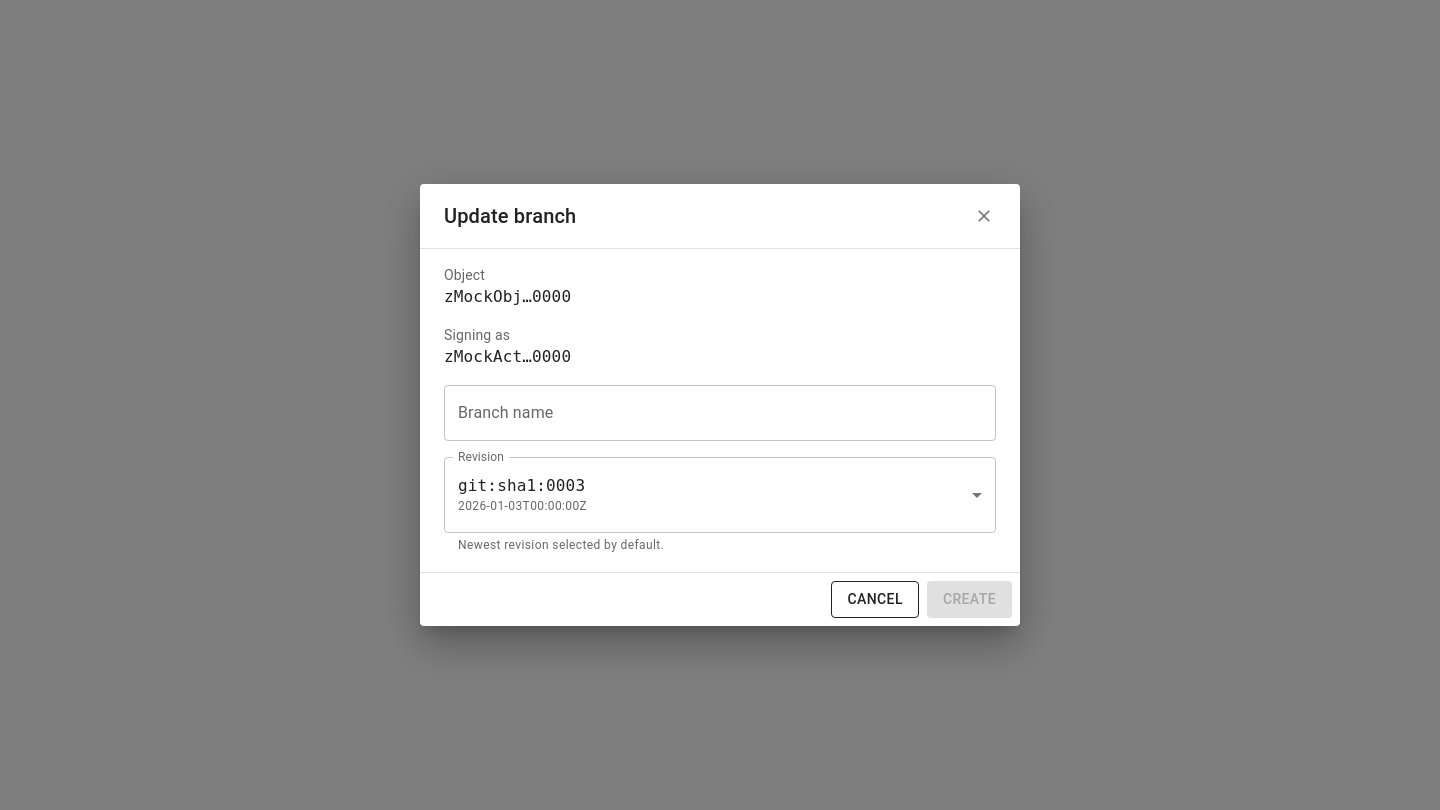
Test: <BranchUpdateDialog /> › disables submit until a name is supplied
This screenshot has width=1440, height=810.
Expected: the button with test id "branch-update-submit" is disabled, [927,581,1012,618]
Step 1. Type "head" into the dropdown with test id "branch-name-input" → (705, 413), box [453,394,957,432]
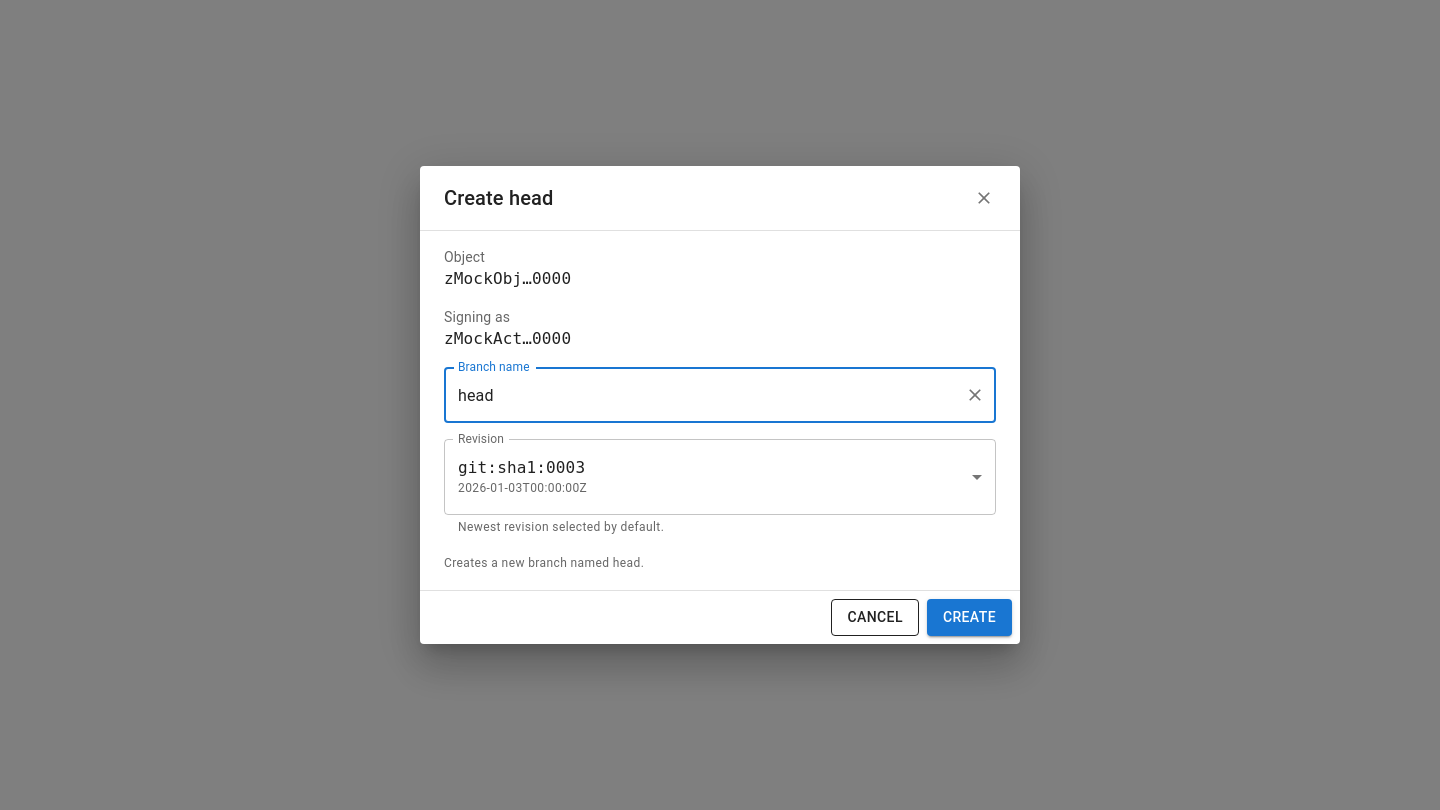
Result: the button with test id "branch-update-submit" is enabled at [927,599,1012,636]
